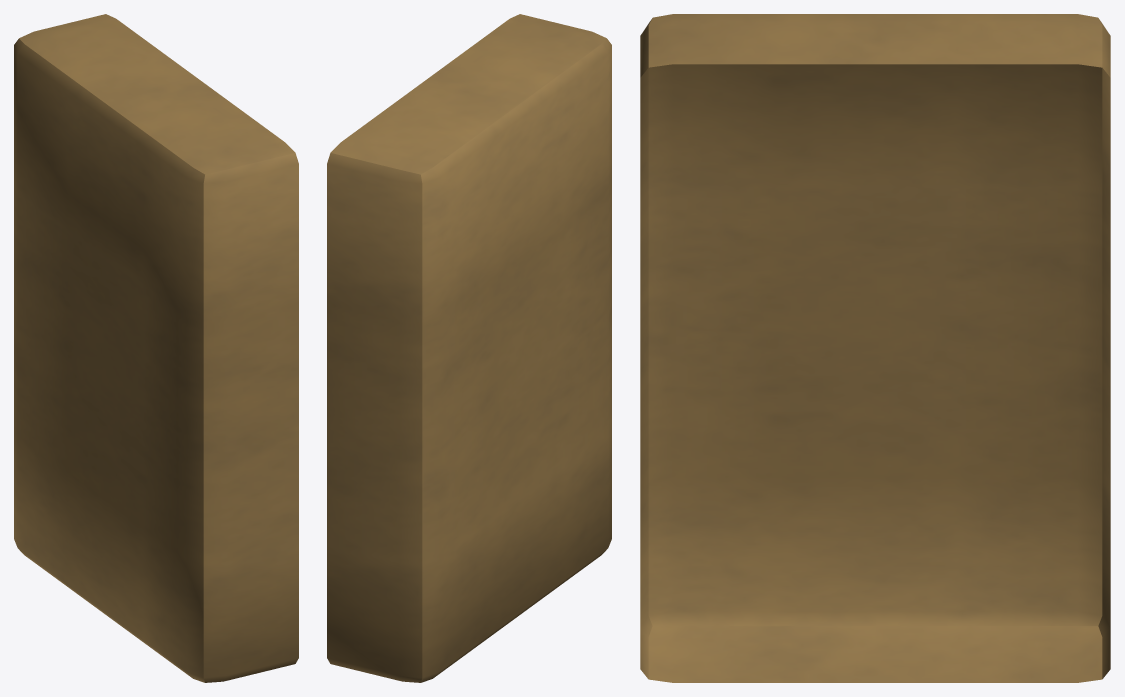
File: PlatformTall Wide EXT END.fbx
3 renders of one model, left to right at view 1: azimuth 30°, elevation 25°; view 2: azimuth 150°, elevation 25°; view 3: azimuth 270°, elevation 25°, orthographic. The views are drawn at different scales.
Parts seen in each view (by area): view 1: PlatformTall Wide EXT END; view 2: PlatformTall Wide EXT END; view 3: PlatformTall Wide EXT END.
Boxes of the visible parts, <box> form: PlatformTall Wide EXT END: <box>14,14,298,682</box>; PlatformTall Wide EXT END: <box>327,14,611,682</box>; PlatformTall Wide EXT END: <box>640,14,1110,682</box>.
Bounding box in the file's own units: 15.71 × 54.25 × 78.75.
